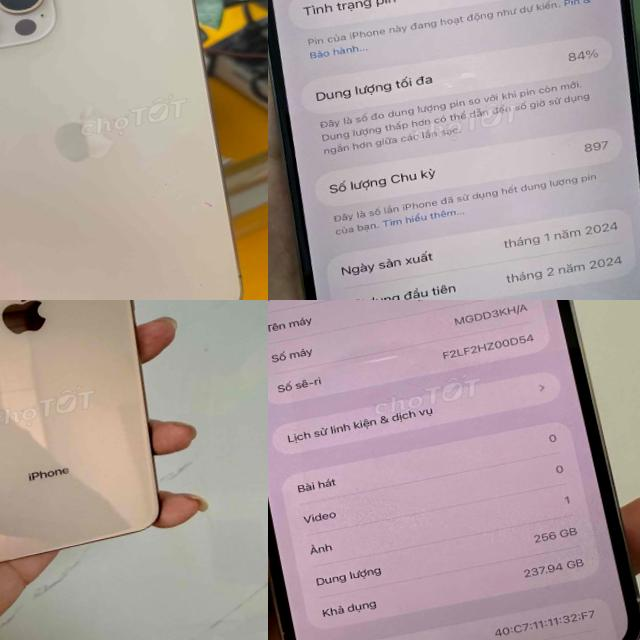gen_12_13: (268, 300, 640, 640), (0, 0, 267, 300)
gen_15: (268, 0, 640, 300)
gen_x_xs: (0, 300, 200, 606)
